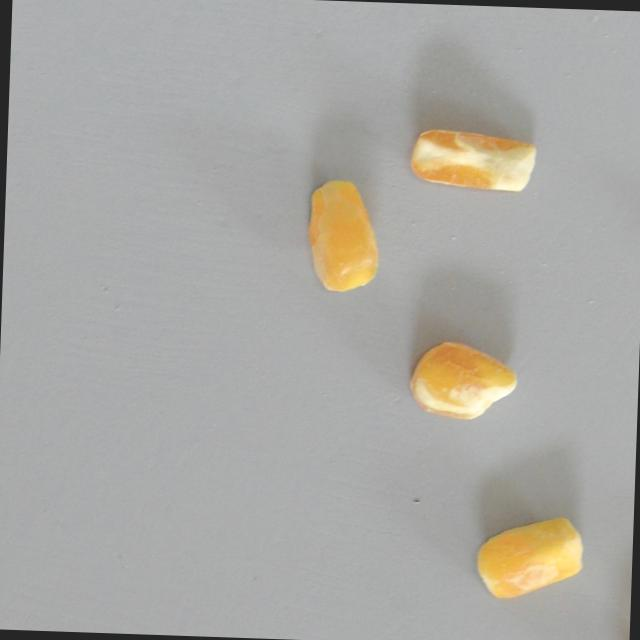pelicula: (389, 108, 552, 217), (449, 506, 612, 615), (386, 329, 549, 438), (298, 175, 387, 295)
